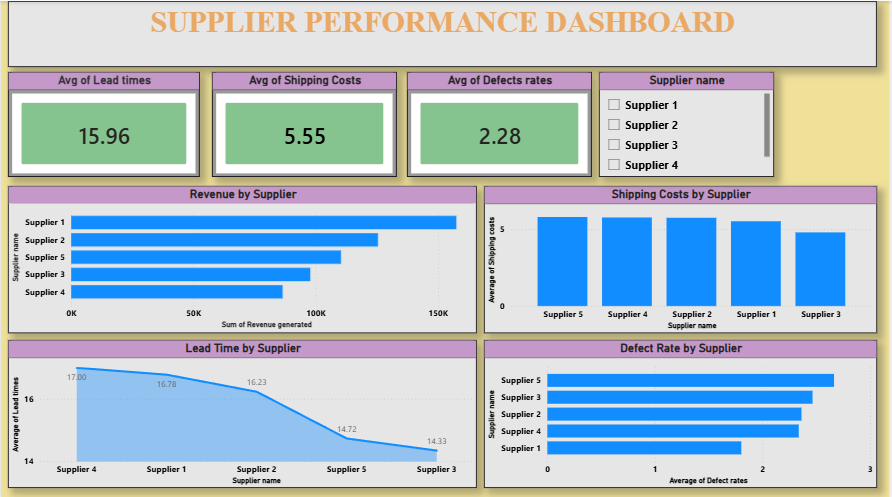

This screenshot's page, from the dashboard's own definition file:
{"tool":"powerbi","page":{"name":"Supplier Performance Dashboard ","canvas":[1280,720],"ordinal":2},"visuals":[{"type":"textbox","box":[10.2,0,1251.2,95.1],"z":0},{"type":"cardVisual","title":"Avg of Lead times","fields":{"Data":["Avg(project_supply_chain_data supply_chain_data.Lead times)"]},"box":[10.1,102.2,276.5,151.2],"z":1000},{"type":"cardVisual","title":"Avg of Shipping Costs","fields":{"Data":["Avg(project_supply_chain_data supply_chain_data.Shipping costs)"]},"box":[303.8,102.2,266.4,151.2],"z":2000},{"type":"cardVisual","title":"Avg of Defects rates","fields":{"Data":["Avg(project_supply_chain_data supply_chain_data.Defect rates)"]},"box":[584.6,102.2,266.4,151.2],"z":3000},{"type":"clusteredBarChart","title":"Revenue by Supplier","fields":{"Category":["project_supply_chain_data supply_chain_data.Supplier name"],"Y":["Sum(project_supply_chain_data supply_chain_data.Revenue generated)"]},"box":[10.1,266.4,675.4,211.7],"z":4000},{"type":"lineChart","title":"Lead Time by Supplier","fields":{"Category":["project_supply_chain_data supply_chain_data.Supplier name"],"Y":["Avg(project_supply_chain_data supply_chain_data.Lead times)"]},"box":[10.1,488.2,675.4,213.1],"z":5000},{"type":"clusteredColumnChart","title":"Shipping Costs by Supplier","fields":{"Category":["project_supply_chain_data supply_chain_data.Supplier name"],"Y":["Avg(project_supply_chain_data supply_chain_data.Shipping costs)"]},"box":[695.5,266.4,565.9,211.7],"z":6000},{"type":"clusteredBarChart","title":"Defect Rate by Supplier","fields":{"Category":["project_supply_chain_data supply_chain_data.Supplier name"],"Y":["Avg(project_supply_chain_data supply_chain_data.Defect rates)"]},"box":[695.5,488.2,565.9,213.1],"z":7000},{"type":"slicer","title":"Supplier name","fields":{"Values":["project_supply_chain_data supply_chain_data.Supplier name"]},"box":[861.1,102.2,252,151.2],"z":8000}]}

Visuals, with their boxes in screenshot pixels (x1, y1, x2, y2), scaled from the page's 1280x720 canvas onto the 892x497 screenshot:
textbox: <bbox>7, 0, 879, 66</bbox>
"Avg of Lead times" cardVisual: <bbox>7, 71, 200, 175</bbox>
"Avg of Shipping Costs" cardVisual: <bbox>212, 71, 397, 175</bbox>
"Avg of Defects rates" cardVisual: <bbox>407, 71, 593, 175</bbox>
"Revenue by Supplier" clusteredBarChart: <bbox>7, 184, 478, 330</bbox>
"Lead Time by Supplier" lineChart: <bbox>7, 337, 478, 484</bbox>
"Shipping Costs by Supplier" clusteredColumnChart: <bbox>485, 184, 879, 330</bbox>
"Defect Rate by Supplier" clusteredBarChart: <bbox>485, 337, 879, 484</bbox>
"Supplier name" slicer: <bbox>600, 71, 776, 175</bbox>
